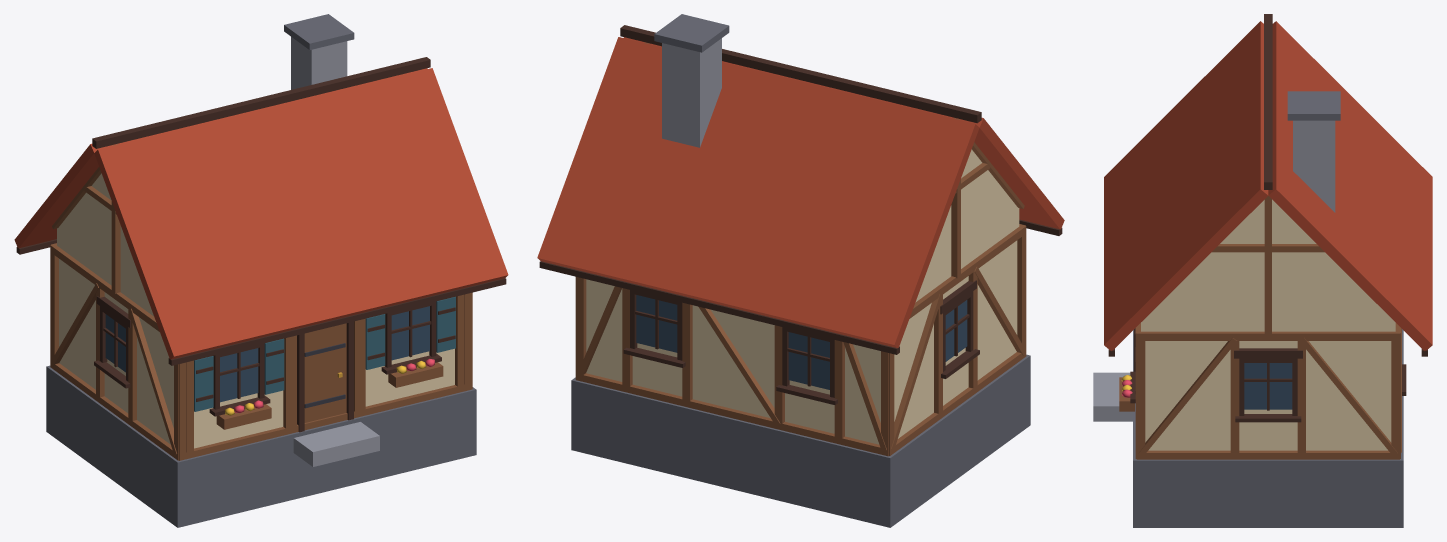
Rendered from cottage.glb.
3 views of the same model, side by side, from view 1: azimuth 30°, elevation 25°; view 2: azimuth 150°, elevation 25°; view 3: azimuth 270°, elevation 25° (orthographic). The views are drawn at different scales.
Visible parts, largest first — view 1: footing; view 2: footing; view 3: footing.
Part boxes in pixels (x1,y1,x2,y2): footing: (14,14,508,527); footing: (537,14,1064,527); footing: (1093,14,1432,527).
Bounding box in the file's own units: 7.5 × 8.12 × 6.4.
